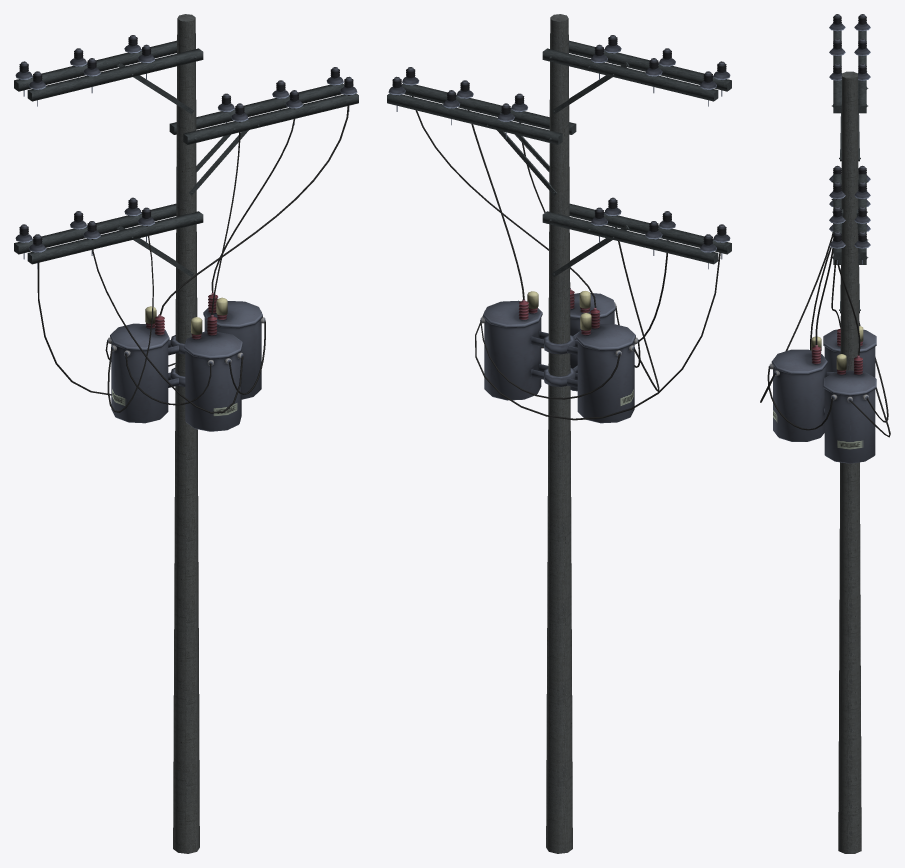
Rendered from pole_concrete_e_lod_0.glb.
3 views of the same model, side by side, from view 1: azimuth 30°, elevation 25°; view 2: azimuth 150°, elevation 25°; view 3: azimuth 270°, elevation 25° (orthographic). The views are drawn at different scales.
Parts seen in each view (by area): view 1: pole_concrete_e_lod_0; view 2: pole_concrete_e_lod_0; view 3: pole_concrete_e_lod_0.
Boxes of the visible parts, <box> form: pole_concrete_e_lod_0: <box>14,14,358,853</box>; pole_concrete_e_lod_0: <box>387,14,731,853</box>; pole_concrete_e_lod_0: <box>760,14,890,853</box>.
Bounding box in the file's own units: 4.2 × 10.2 × 1.56.
2 materials, 2 textured.
